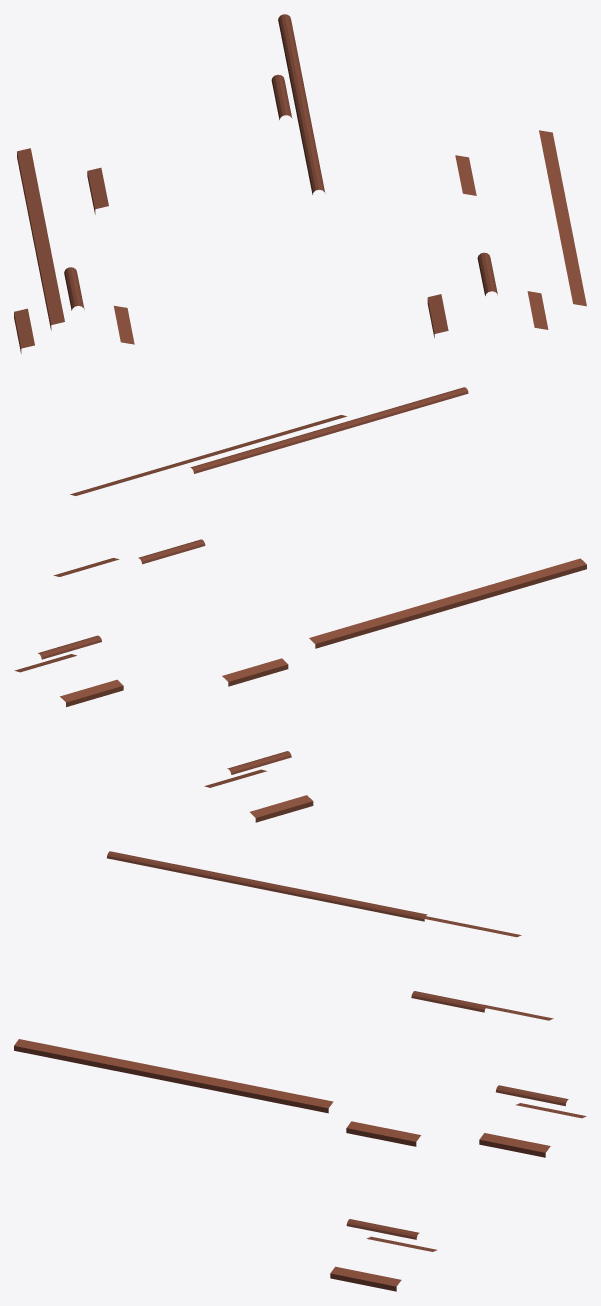
3 renders of one model, top to bottom at view 1: azimuth 30°, elevation 25°; view 2: azimuth 150°, elevation 25°; view 3: azimuth 270°, elevation 25°, orthographic. The views are drawn at different scales.
Visible parts, largest first — view 1: detail; view 2: detail; view 3: detail.
Part boxes in pixels (left/top/right/bottom): detail: left=14, top=14, right=586, bottom=353; detail: left=14, top=387, right=586, bottom=822; detail: left=14, top=851, right=586, bottom=1291.
Bounding box in the file's own units: 15.99 × 8.49 × 15.62.
